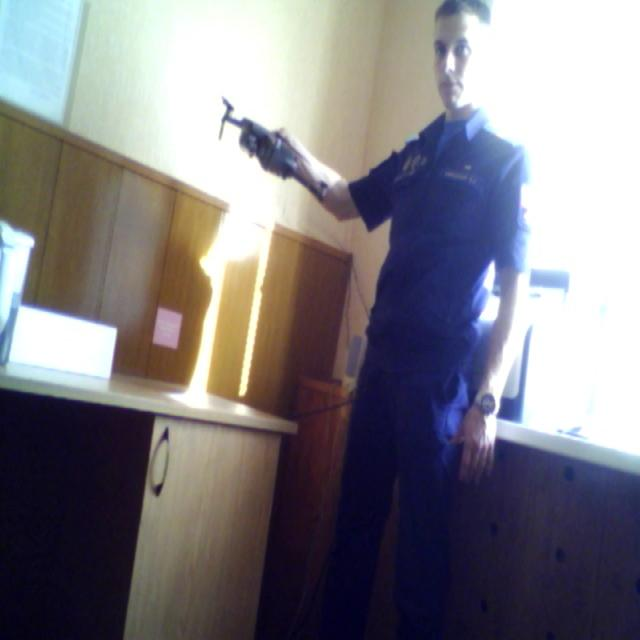drone: (211, 86, 331, 213)
